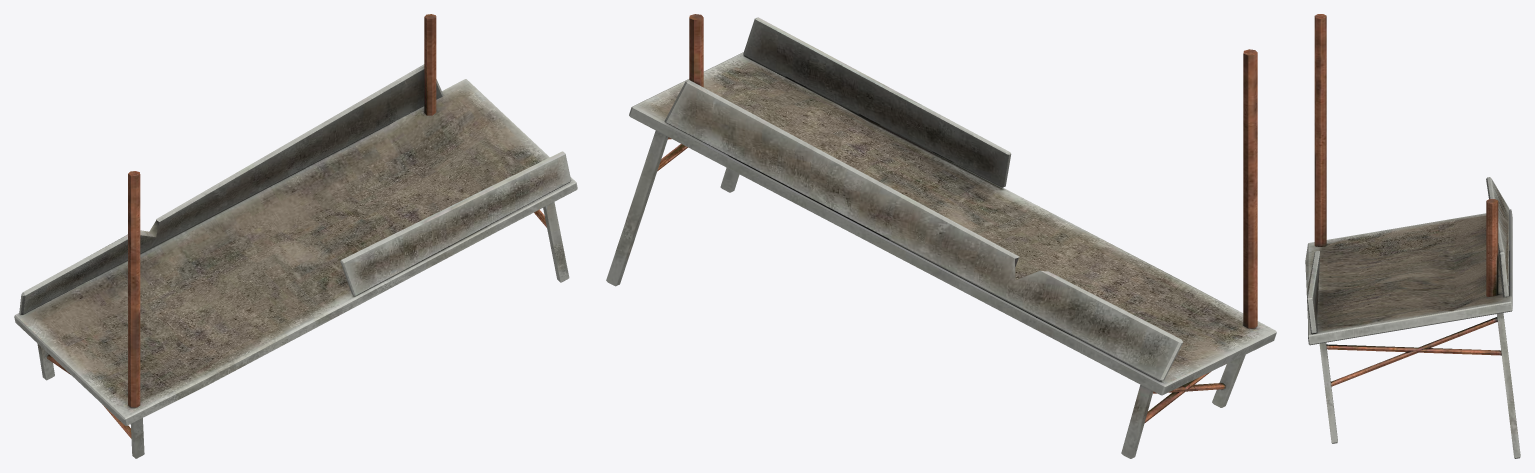
The model's file is Viga 1.fbx.
The picture shows the model from 3 angles, left to right: view 1: azimuth 30°, elevation 25°; view 2: azimuth 150°, elevation 25°; view 3: azimuth 270°, elevation 25°; orthographic projection. The views are drawn at different scales.
Visible parts, largest first — view 1: Viga_Que_Cai; view 2: Viga_Que_Cai; view 3: Viga_Que_Cai.
Part boxes in pixels (x1,y1,x2,y2): Viga_Que_Cai: [14, 14, 577, 458]; Viga_Que_Cai: [606, 14, 1276, 458]; Viga_Que_Cai: [1305, 14, 1520, 458].
Size of the model in its own units: 113 by 67.56 by 45.02.
1 material, 1 textured.
